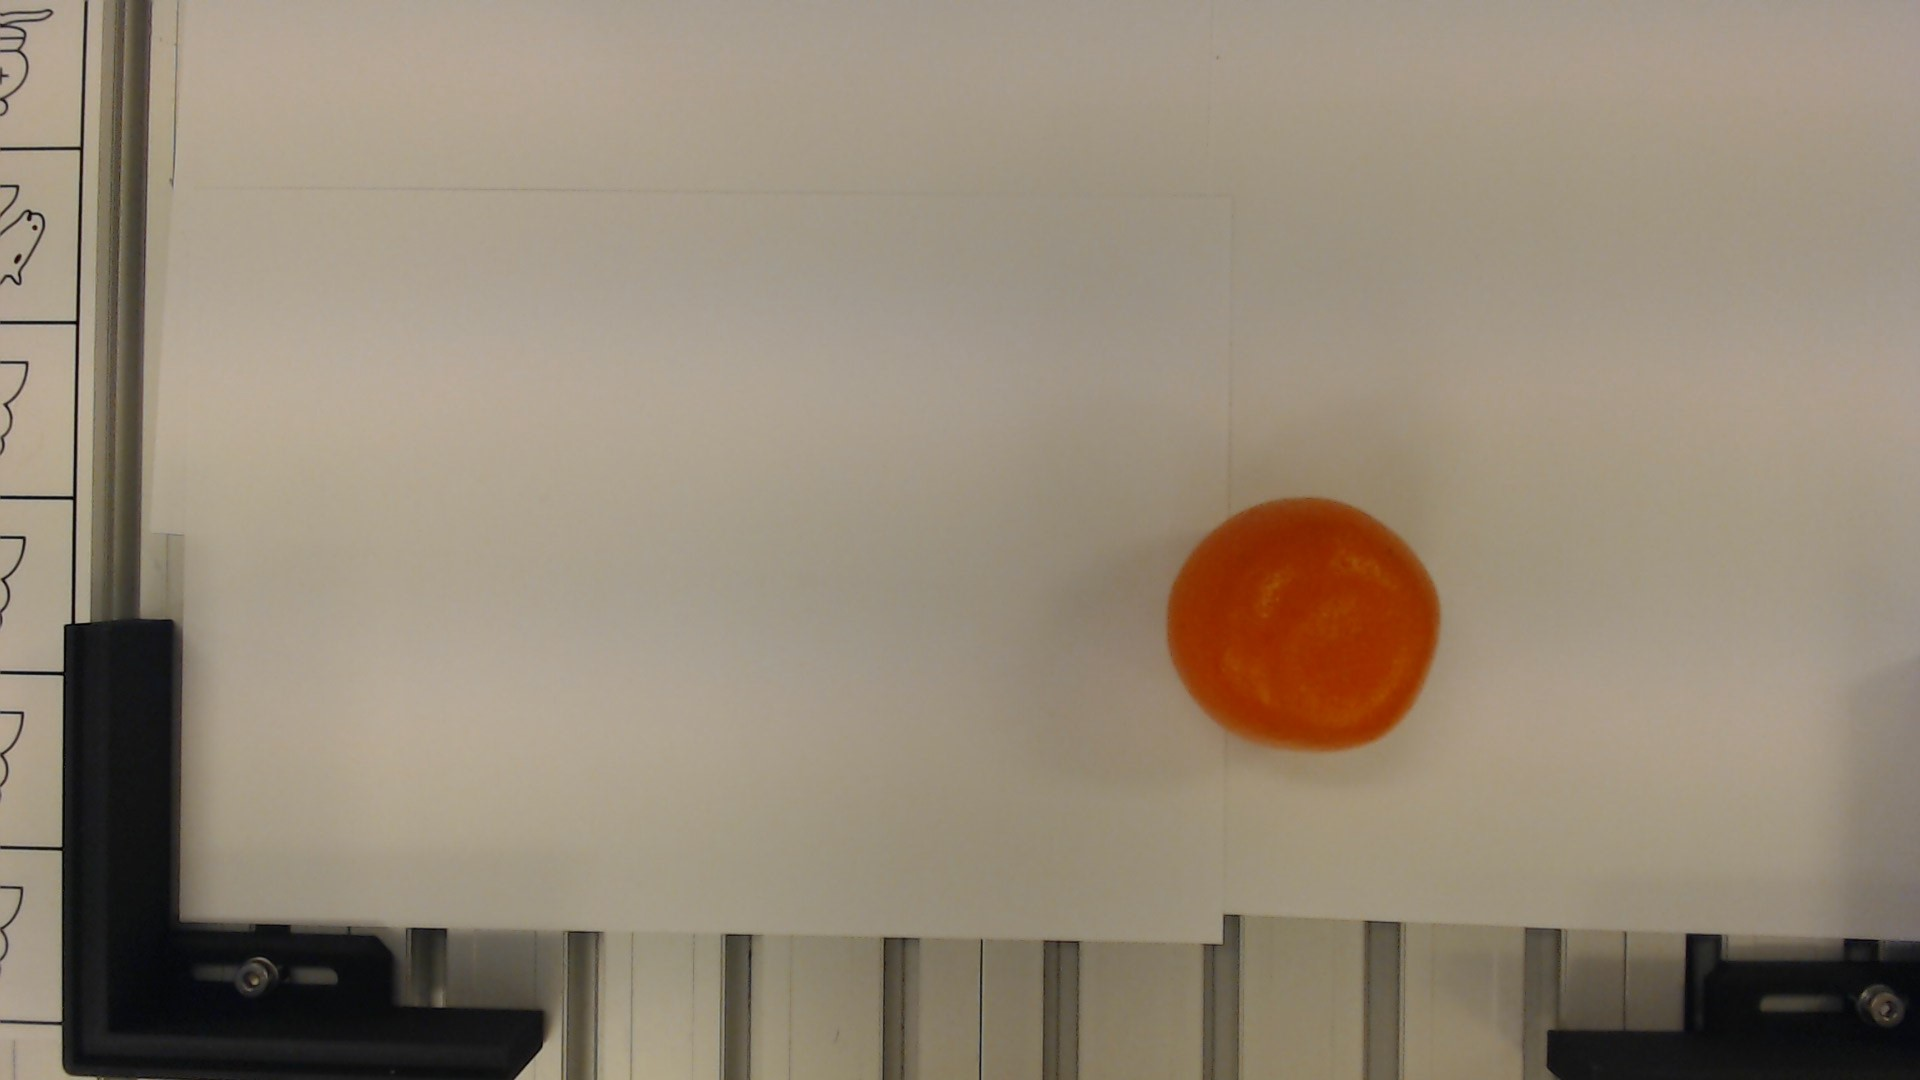Mandarin: (1154, 495, 1447, 753)
